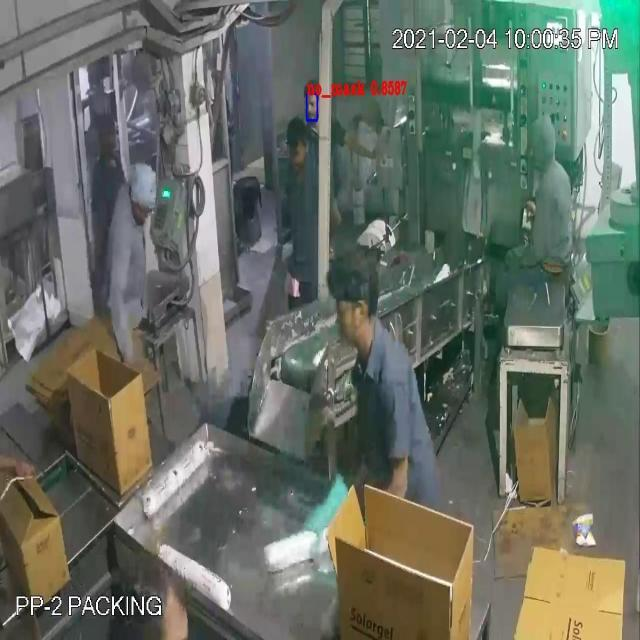No_Gloves: (21, 52, 360, 520)
